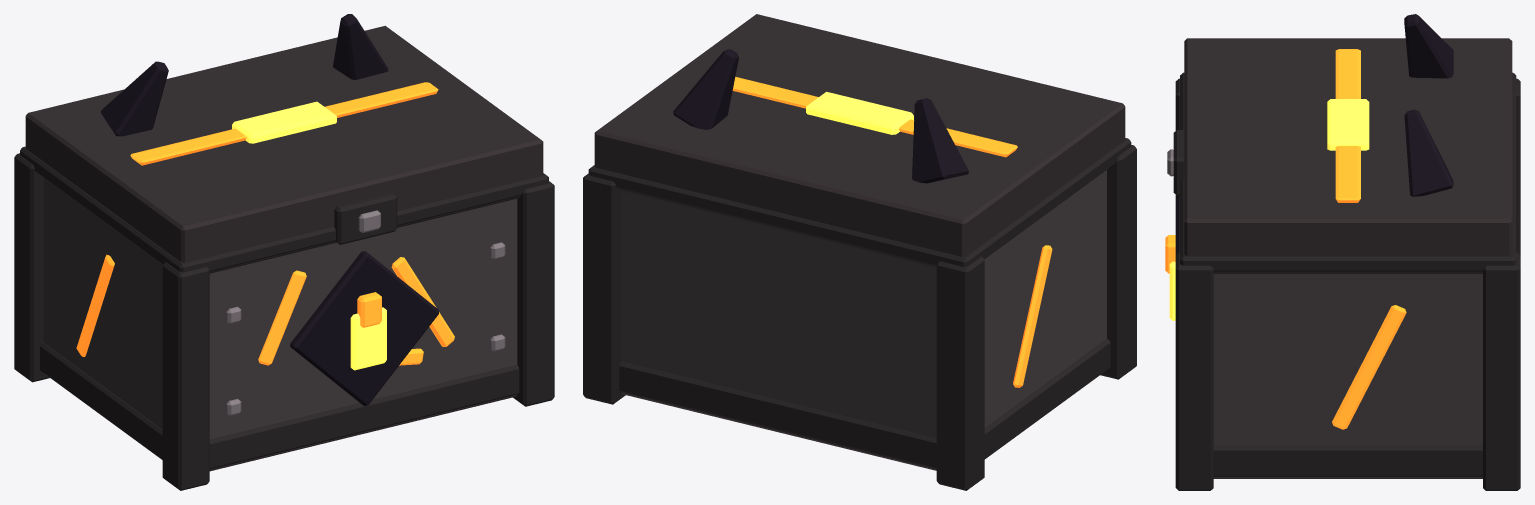
Rendered from myw_crate_zone9.glb.
3 views of the same model, side by side, from view 1: azimuth 30°, elevation 25°; view 2: azimuth 150°, elevation 25°; view 3: azimuth 270°, elevation 25° (orthographic). The views are drawn at different scales.
Parts seen in each view (by area): view 1: Body, Lid; view 2: Body, Lid; view 3: Lid, Body.
Boxes of the visible parts, bbox=[...] form: Body: bbox=[14, 153, 554, 490]; Lid: bbox=[20, 14, 548, 273]; Body: bbox=[583, 145, 1136, 490]; Lid: bbox=[588, 14, 1131, 267]; Lid: bbox=[1167, 14, 1516, 273]; Body: bbox=[1165, 78, 1520, 490].
Size of the model in its own units: 2.14 by 1.76 by 1.69.
